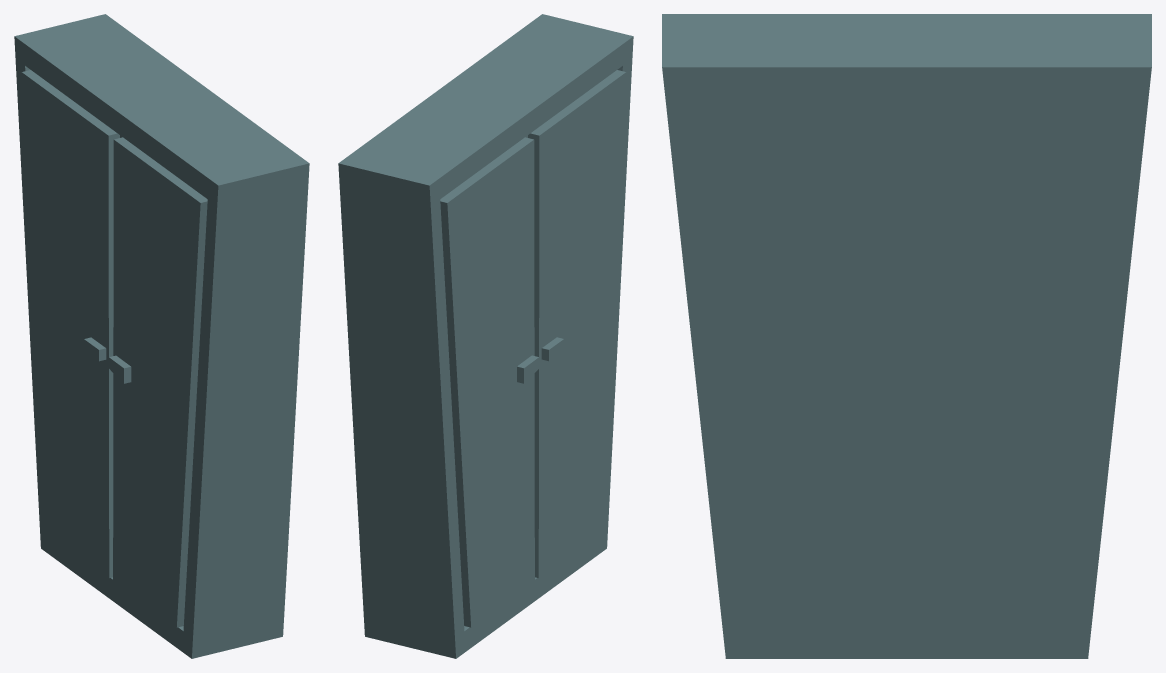
Rendered from Armario.fbx.
3 renders of one model, left to right at view 1: azimuth 30°, elevation 25°; view 2: azimuth 150°, elevation 25°; view 3: azimuth 270°, elevation 25°, orthographic. The views are drawn at different scales.
Parts seen in each view (by area): view 1: Armario; view 2: Armario; view 3: Armario.
Boxes of the visible parts, <box> form: Armario: <box>14,14,309,658</box>; Armario: <box>338,14,633,658</box>; Armario: <box>662,14,1151,658</box>.
Bounding box in the file's own units: 22.45 × 102 × 76.57.
